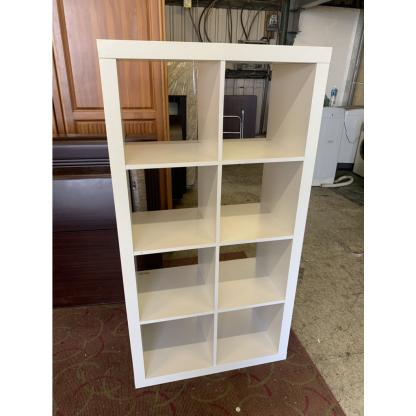lamp: (97, 38, 334, 392)
